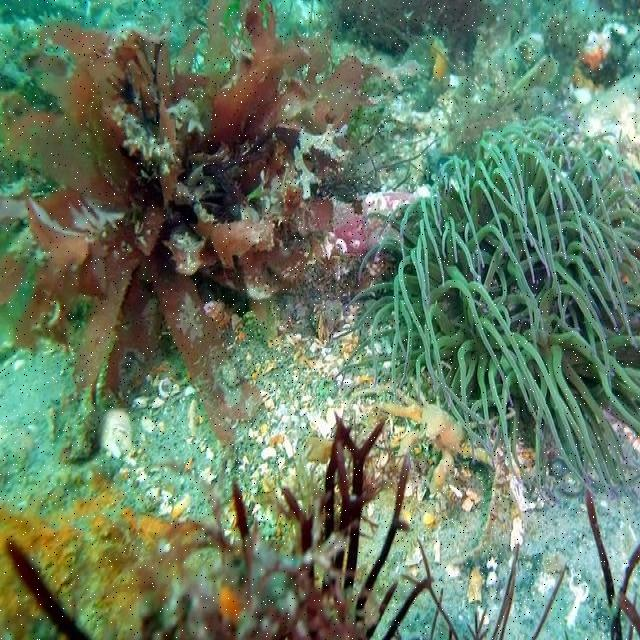aquatic plants: (0, 1, 366, 448), (333, 103, 639, 501)
